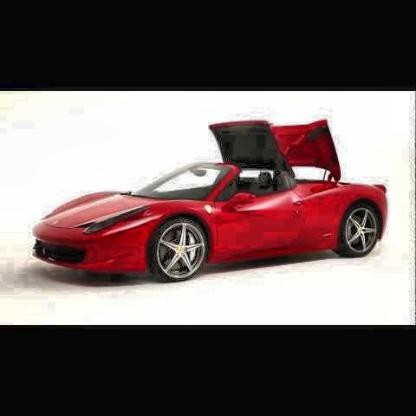Ferrari 458 Italia Convertible 2012: (33, 121, 390, 276)
